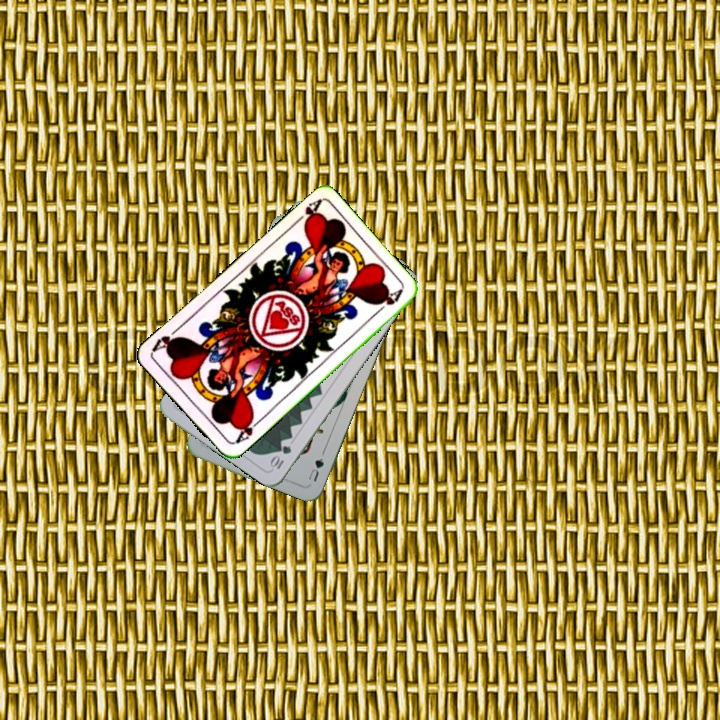G10: (266, 441, 294, 472)
GU: (304, 453, 327, 484)
HA: (289, 196, 324, 232), (231, 412, 265, 446)
